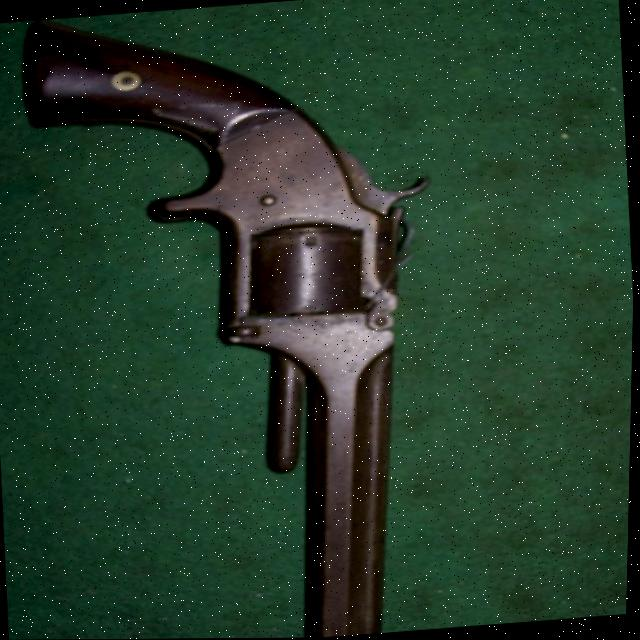pistol: (2, 0, 444, 640)
